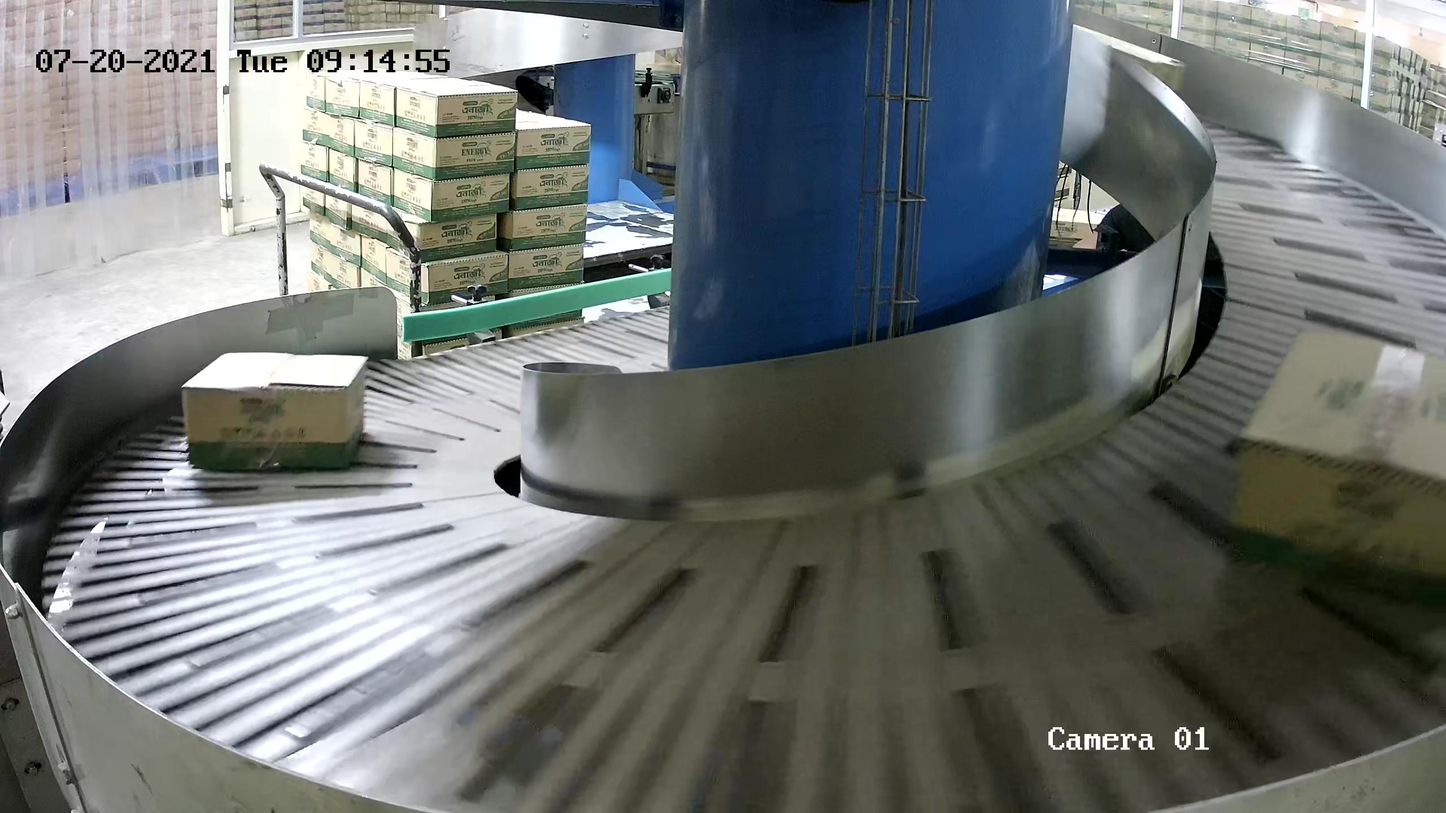Box: (1222, 322, 1446, 613), (181, 351, 369, 471)
